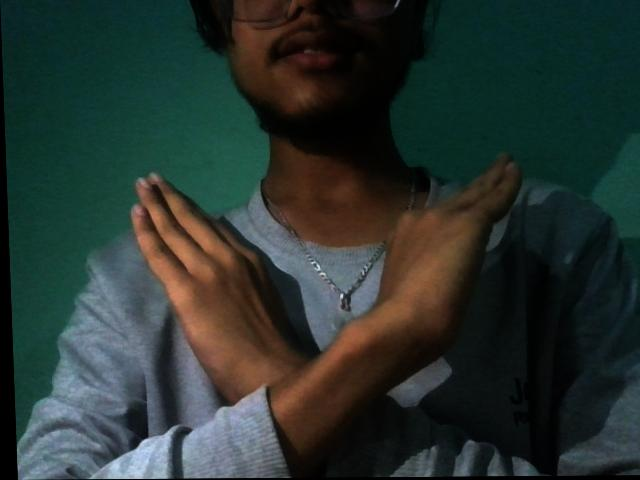dont: (111, 147, 552, 423)
